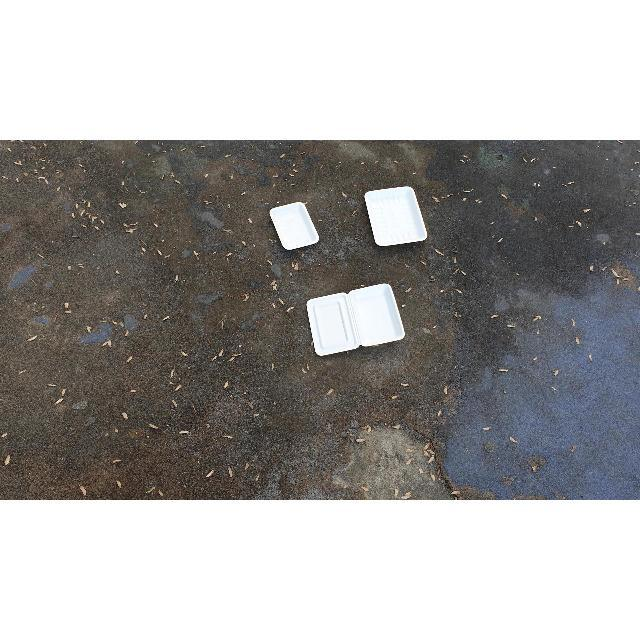Plastico descartable: (306, 283, 405, 359), (361, 186, 429, 250), (264, 199, 321, 256)
